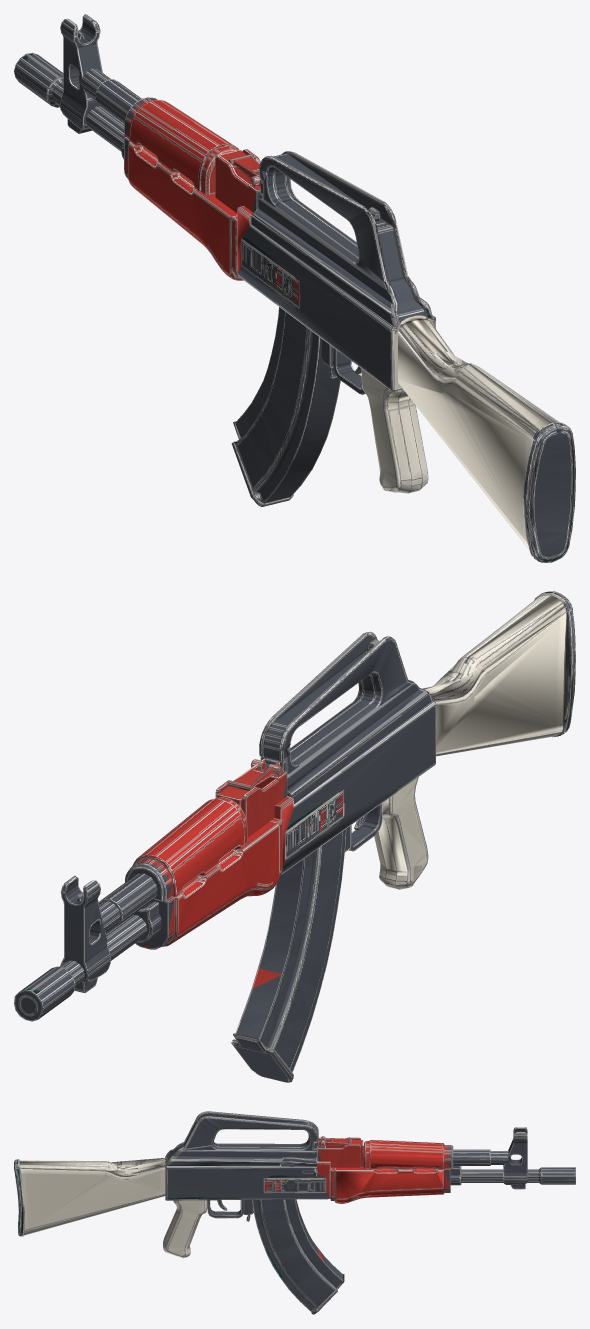
The model's file is ravage.glb.
3 views of the same model, one above another, from view 1: azimuth 30°, elevation 25°; view 2: azimuth 150°, elevation 25°; view 3: azimuth 270°, elevation 25° (orthographic). The views are drawn at different scales.
Parts seen in each view (by area): view 1: Body, Mag; view 2: Body, Mag; view 3: Body, Mag.
Part boxes in pixels (x1,y1,x2,y2): Body: (14, 14, 575, 562); Mag: (231, 310, 340, 506); Body: (14, 591, 575, 1021); Mag: (231, 829, 346, 1082); Body: (14, 1111, 575, 1258); Mag: (252, 1199, 344, 1314).
Bounding box in the file's own units: 0.0703 × 0.3793 × 0.9791.
1 material, 1 textured.
